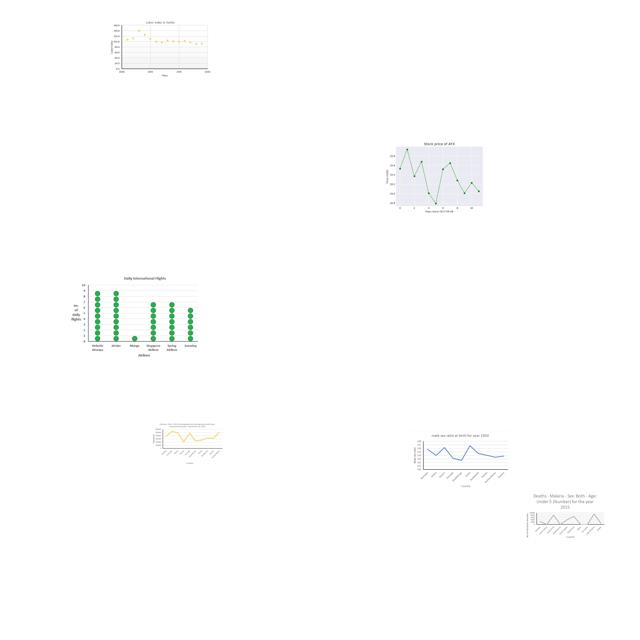Graph: (70, 276, 198, 358), (382, 134, 494, 218), (410, 431, 510, 491), (110, 20, 212, 78), (524, 492, 606, 540), (151, 422, 224, 465)
